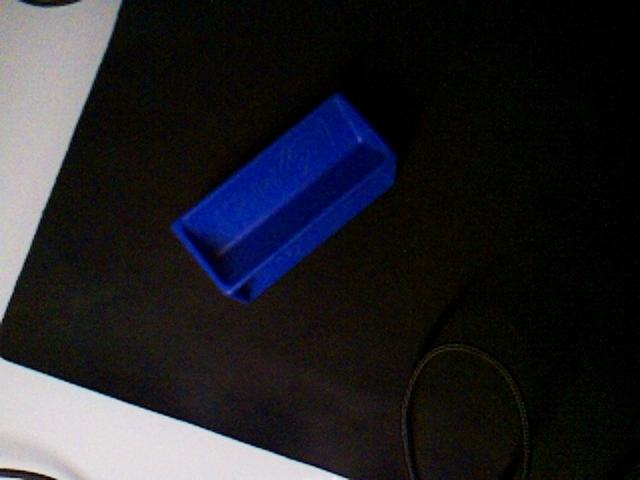blue: (170, 90, 400, 305)
